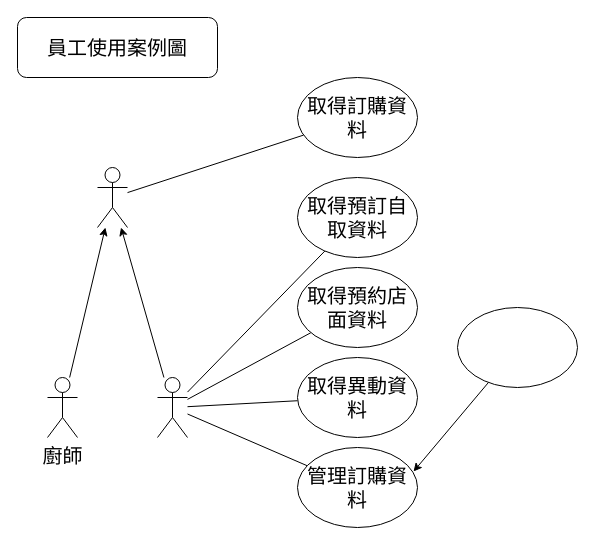
Some shapes in this 595 by 545 pixel diagram are drawn without their labels. Each missing label, with the centre of its shape:
員工: the point at 112,197
店內: the point at 517,347
櫃台: the point at 172,407
